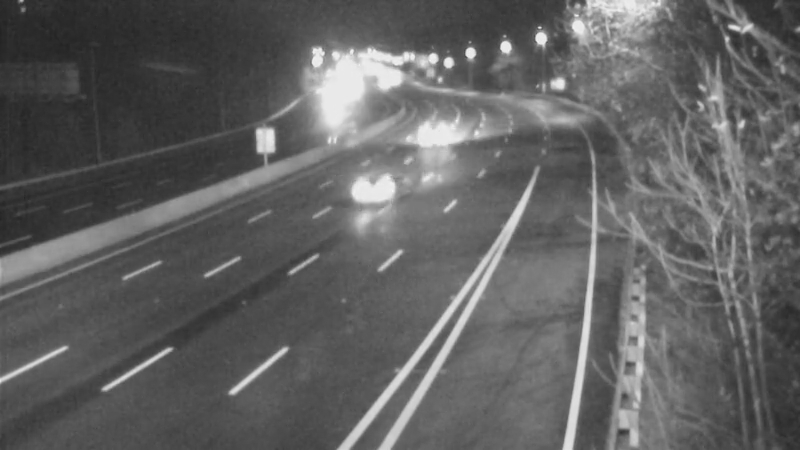vehicle: (345, 144, 425, 224), (407, 106, 457, 156)
